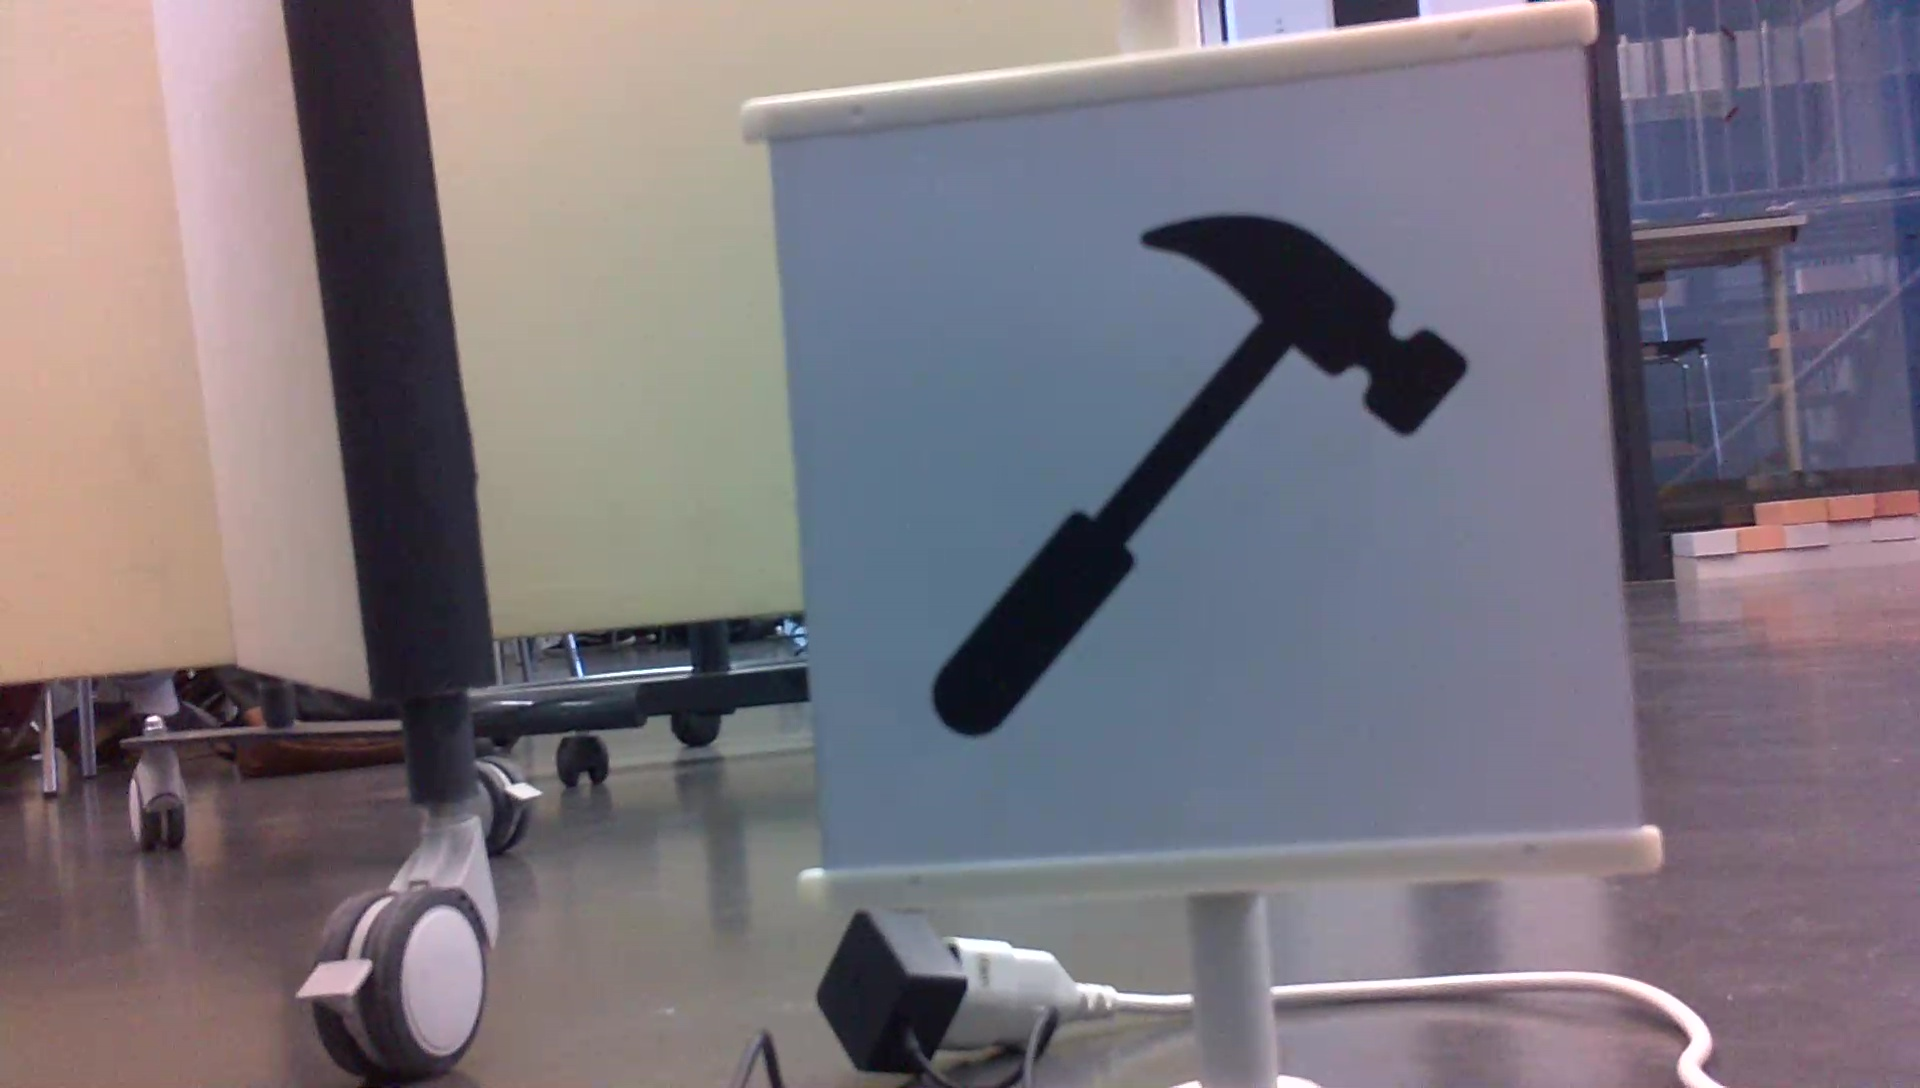hammer: (918, 207, 1476, 740)
